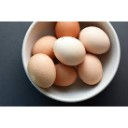begg: (53, 38, 86, 65), (28, 55, 51, 87)
